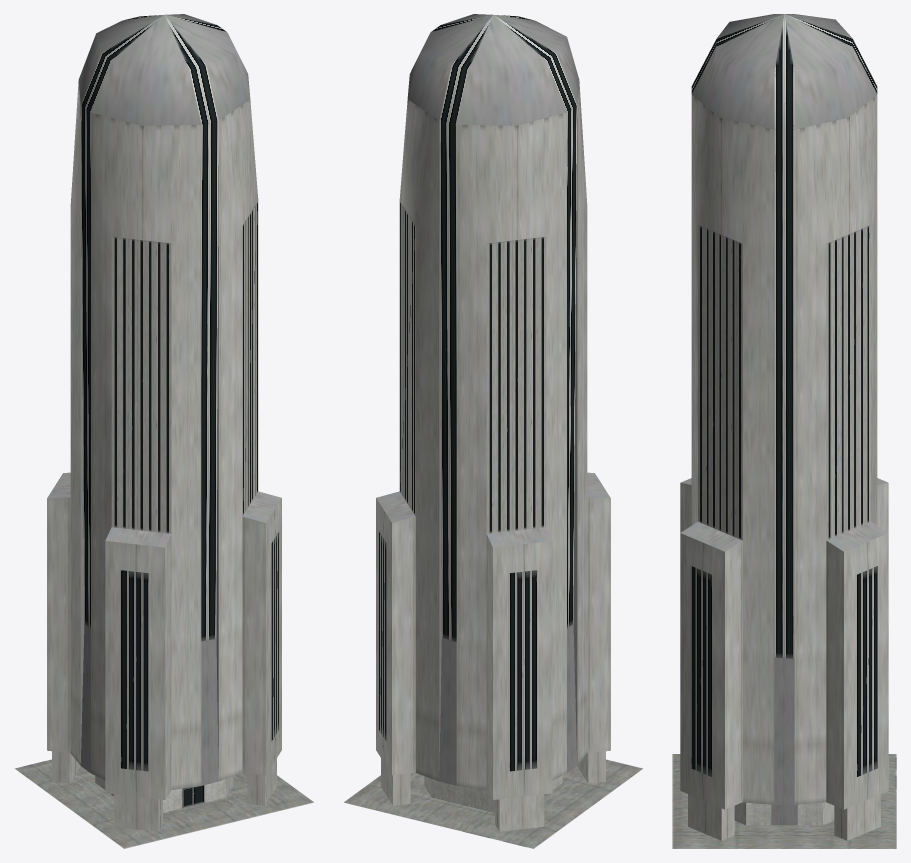
The model's file is thm_corl_skyskraper_s05_r0_mesh_l3.fbx.
The picture shows the model from 3 angles, left to right: view 1: azimuth 30°, elevation 25°; view 2: azimuth 150°, elevation 25°; view 3: azimuth 270°, elevation 25°; orthographic projection. The views are drawn at different scales.
Visible parts, largest first — view 1: mesh_node; view 2: mesh_node; view 3: mesh_node.
Boxes of the visible parts, x1,y1,x2,y2 form: mesh_node: [14, 14, 313, 848]; mesh_node: [344, 14, 643, 848]; mesh_node: [672, 14, 896, 848].
Size of the model in its own units: 39.1 by 151 by 39.1.
Materials: 1 (1 with a texture image).
